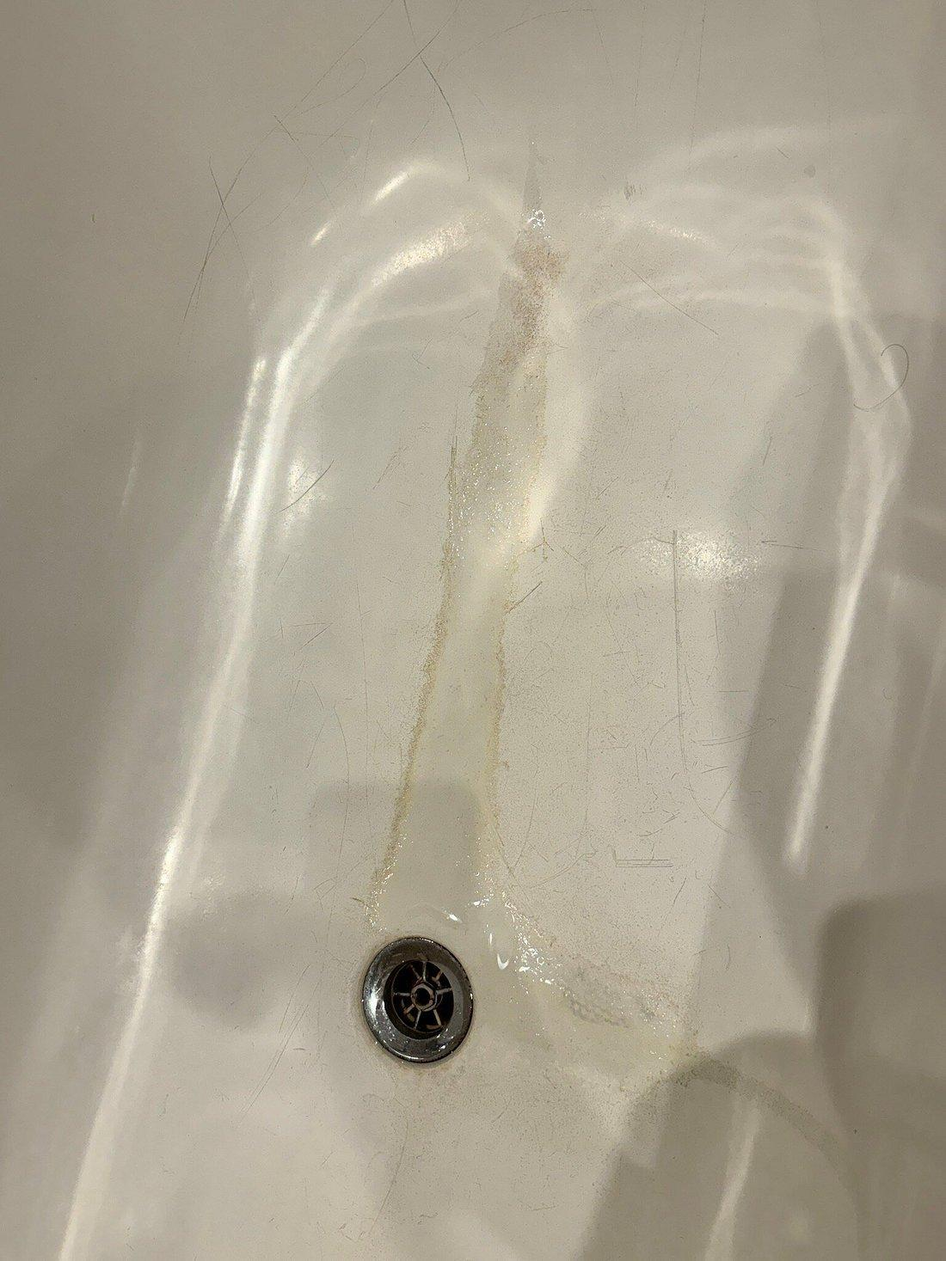messy_sink: (62, 69, 890, 1253)
